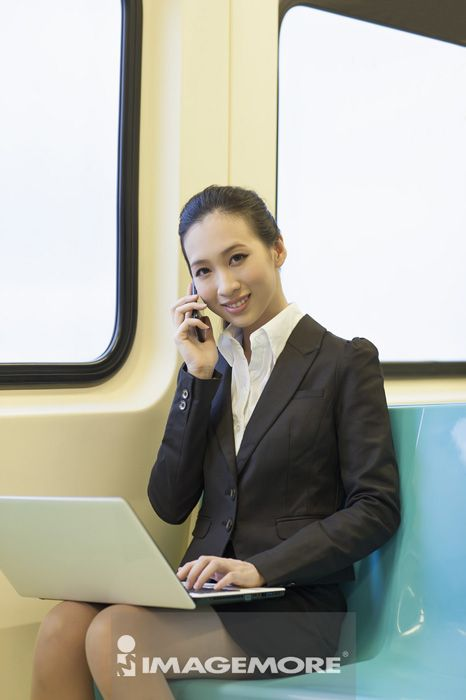phone: (185, 277, 210, 344)
talk: (168, 236, 275, 375)
